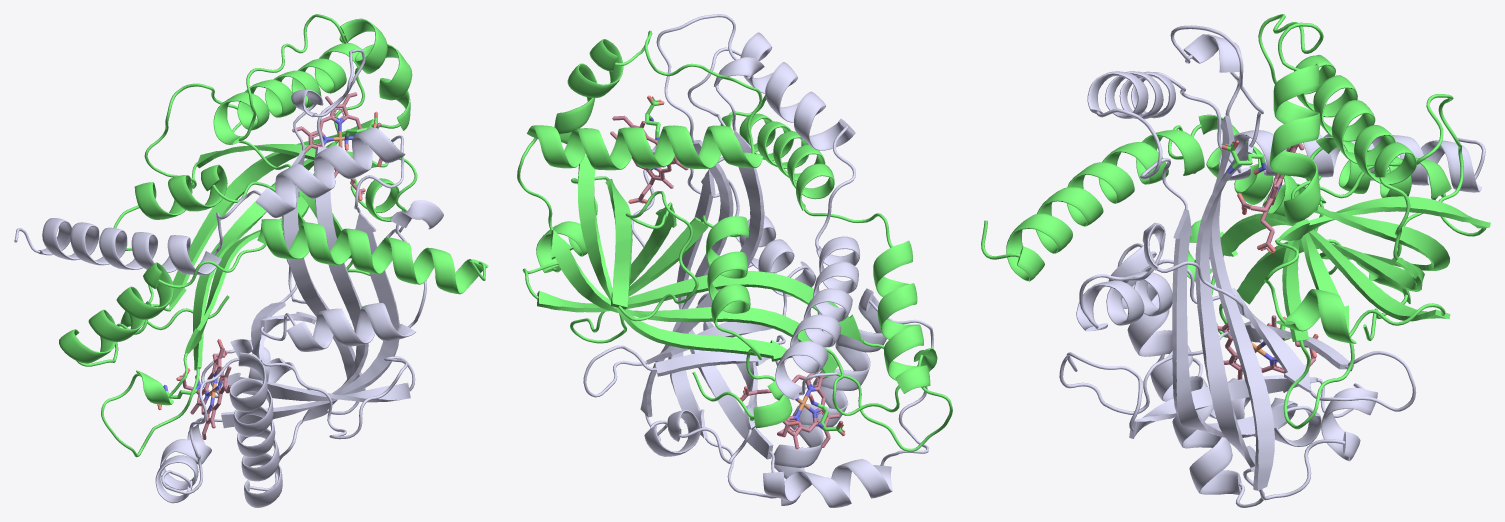
The model's file is PZS_git.gltf.
3 views of the same model, side by side, from view 1: azimuth 30°, elevation 25°; view 2: azimuth 150°, elevation 25°; view 3: azimuth 270°, elevation 25° (orthographic). The views are drawn at different scales.
Visible parts, largest first — view 1: node-geom266, node-geom264, node-geom265, node-geom267; view 2: node-geom266, node-geom265, node-geom264; view 3: node-geom264, node-geom266, node-geom265, node-geom267.
Boxes of the visible parts, x1=… form: node-geom266: x1=59, y1=14, x2=487, y2=457; node-geom264: x1=155, y1=49, x2=443, y2=507; node-geom265: x1=14, y1=83, x2=417, y2=495; node-geom267: x1=404, y1=250, x2=488, y2=293; node-geom266: x1=517, y1=30, x2=952, y2=451; node-geom265: x1=522, y1=32, x2=891, y2=507; node-geom264: x1=583, y1=14, x2=933, y2=506; node-geom264: x1=1059, y1=25, x2=1416, y2=507; node-geom266: x1=1006, y1=14, x2=1450, y2=337; node-geom265: x1=1087, y1=71, x2=1490, y2=446; node-geom267: x1=981, y1=219, x2=1066, y2=277.
Size of the model in its own units: 52.3 by 62.93 by 54.55.
